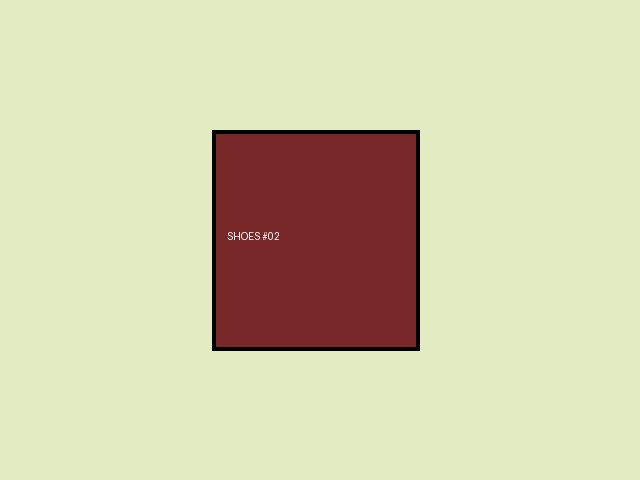shoes: (212, 130, 419, 350)
